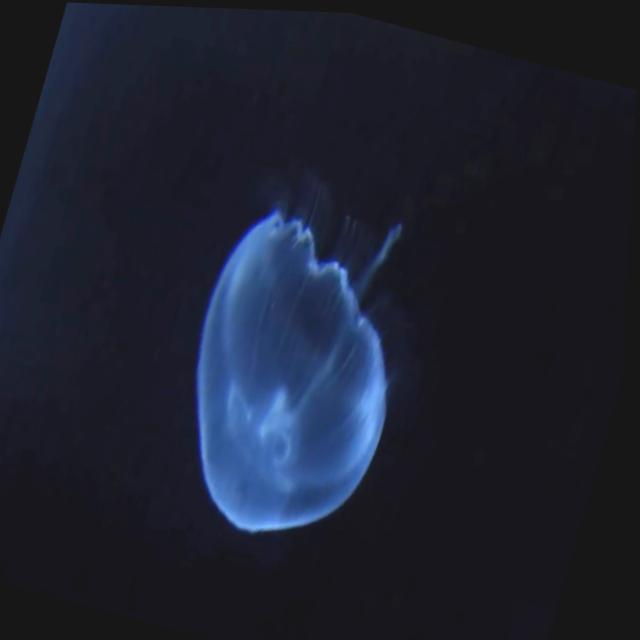Moon-jellyfish: (196, 209, 390, 532)
